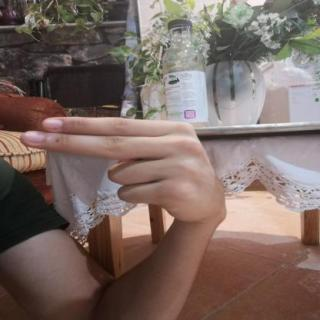AYN: (8, 105, 234, 228)
